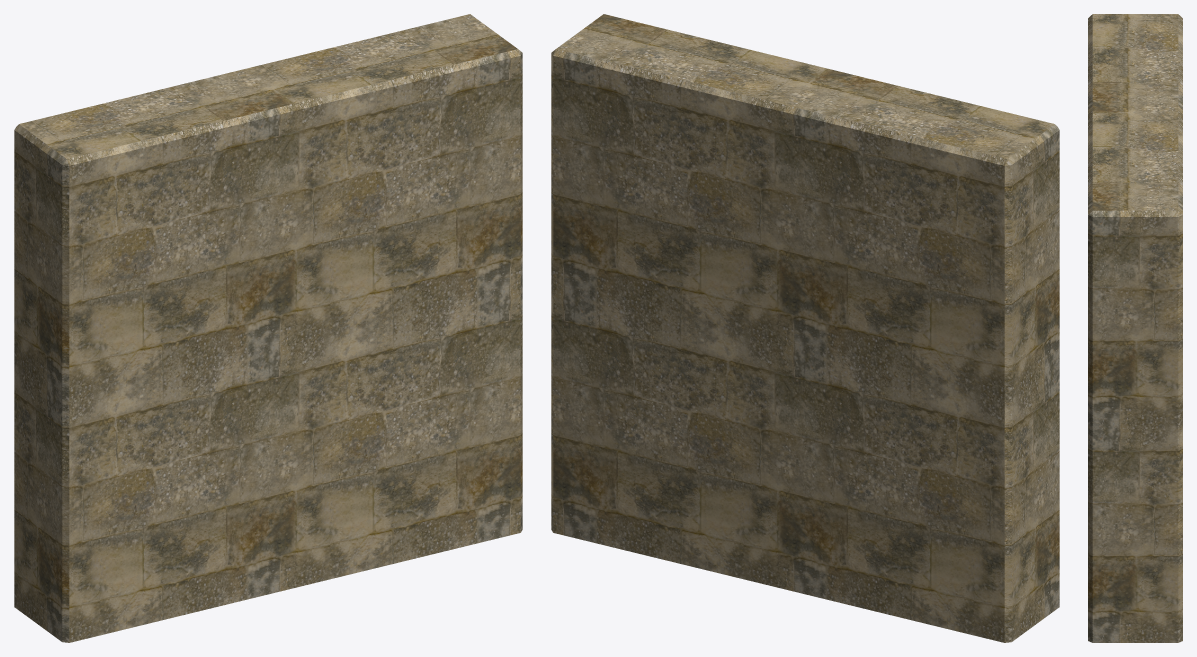
Rendered from wall1.fbx.
3 renders of one model, left to right at view 1: azimuth 30°, elevation 25°; view 2: azimuth 150°, elevation 25°; view 3: azimuth 270°, elevation 25°, orthographic. The views are drawn at different scales.
Visible parts, largest first — view 1: Wall1; view 2: Wall1; view 3: Wall1.
Part boxes in pixels (x1,y1,x2,y2): Wall1: (14,14,522,642); Wall1: (551,14,1059,642); Wall1: (1088,14,1182,642).
Size of the model in its own units: 500 by 500 by 100.
